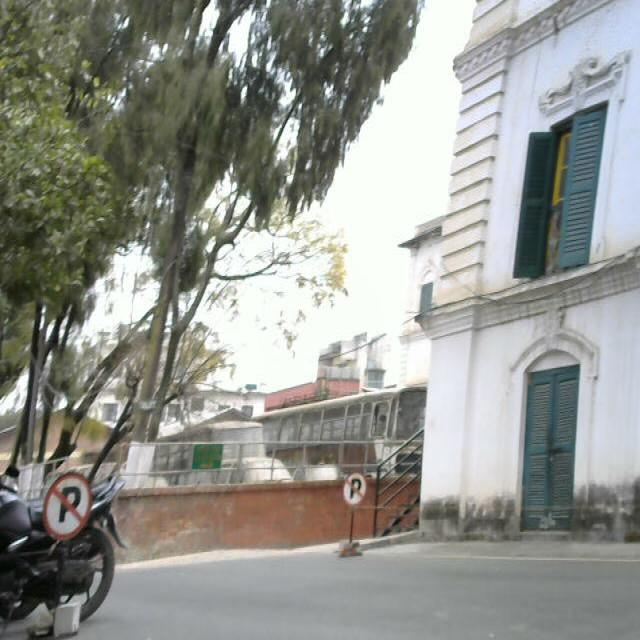Buildings: (418, 0, 640, 549)
NoParking: (32, 468, 94, 640), (344, 471, 372, 561)
Road: (115, 553, 640, 640)
trees: (0, 1, 398, 394)
